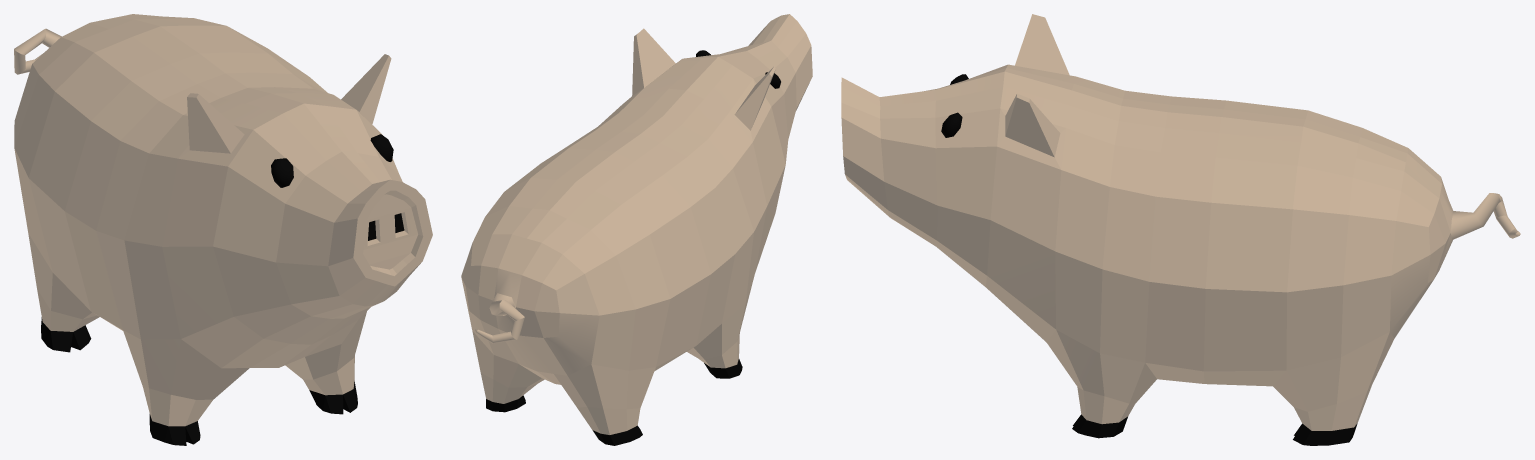
File: pig.glb
3 renders of one model, left to right at view 1: azimuth 30°, elevation 25°; view 2: azimuth 150°, elevation 25°; view 3: azimuth 270°, elevation 25°, orthographic. The views are drawn at different scales.
Parts seen in each view (by area): view 1: Pig; view 2: Pig; view 3: Pig.
Part boxes in pixels (x1=…): Pig: x1=14, y1=14, x2=432, y2=445; Pig: x1=461, y1=14, x2=812, y2=445; Pig: x1=841, y1=14, x2=1520, y2=445.
Size of the model in its own units: 0.1437 by 0.1947 by 0.3537.
